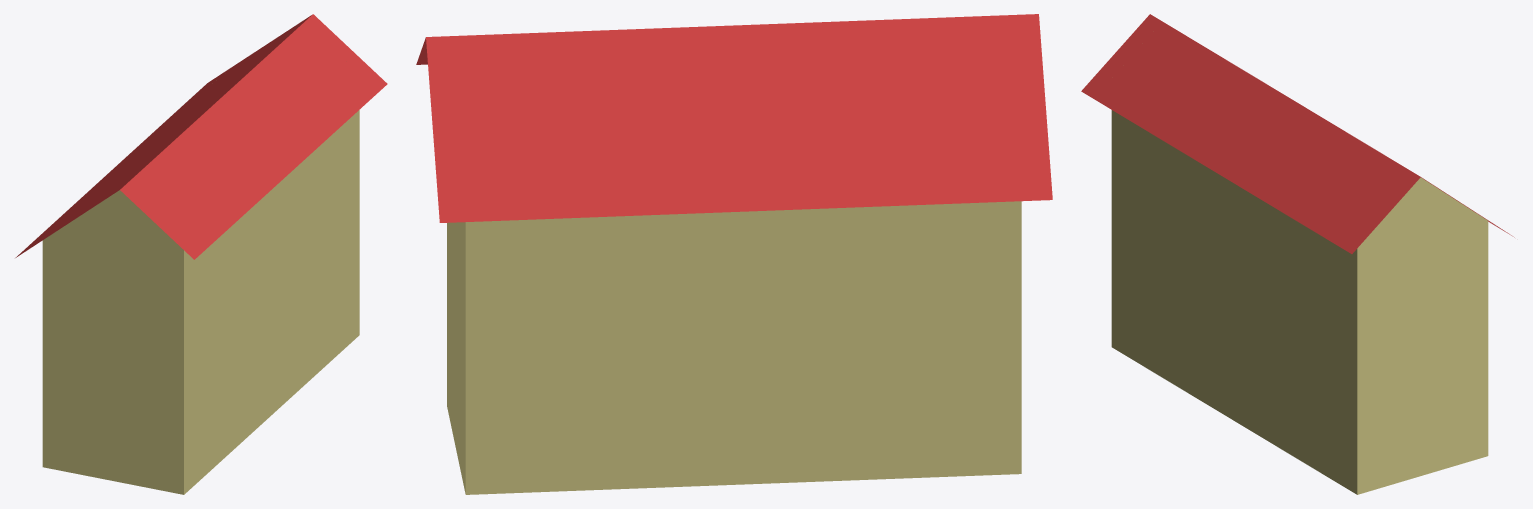
3 views of the same model, side by side, from view 1: azimuth 30°, elevation 25°; view 2: azimuth 150°, elevation 25°; view 3: azimuth 270°, elevation 25° (orthographic). The views are drawn at different scales.
Size of the model in its own units: 11.49 by 10 by 7.82.
